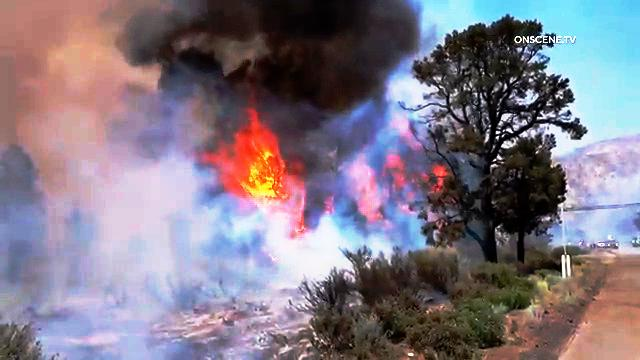fire: (219, 89, 302, 255)
smoke: (0, 36, 129, 254), (192, 0, 397, 85)
